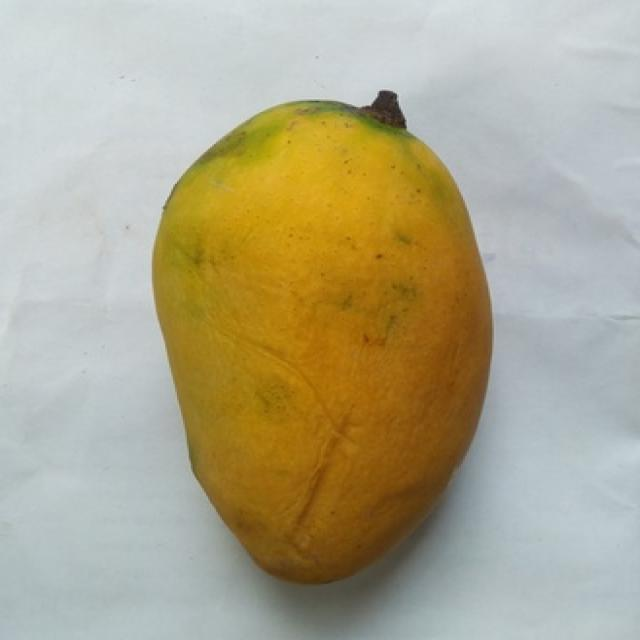Mango: (154, 101, 490, 581)
